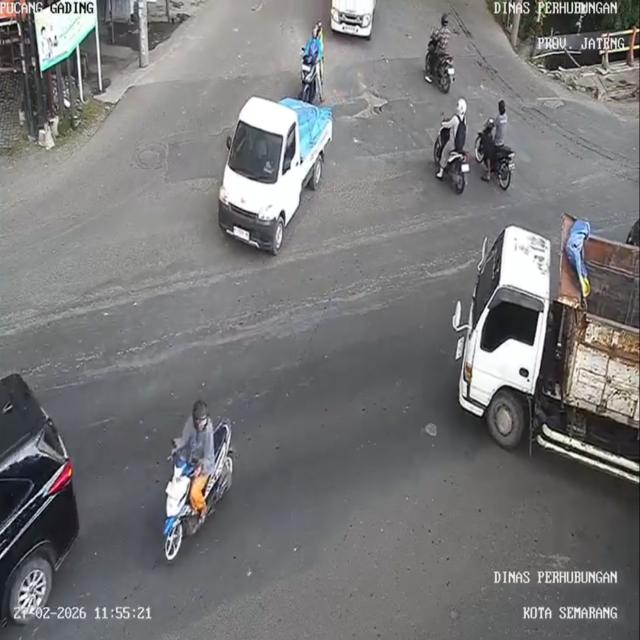motorcycle: (161, 432, 242, 561), (478, 120, 516, 190), (430, 126, 470, 192), (424, 43, 455, 89), (295, 48, 320, 102)
person: (172, 399, 215, 527), (438, 97, 470, 179), (431, 12, 454, 56), (493, 101, 510, 154), (302, 27, 324, 58), (315, 20, 325, 55)
rider_region: (162, 400, 236, 566), (477, 99, 517, 193), (434, 98, 471, 197), (293, 17, 325, 102), (423, 12, 455, 95)
